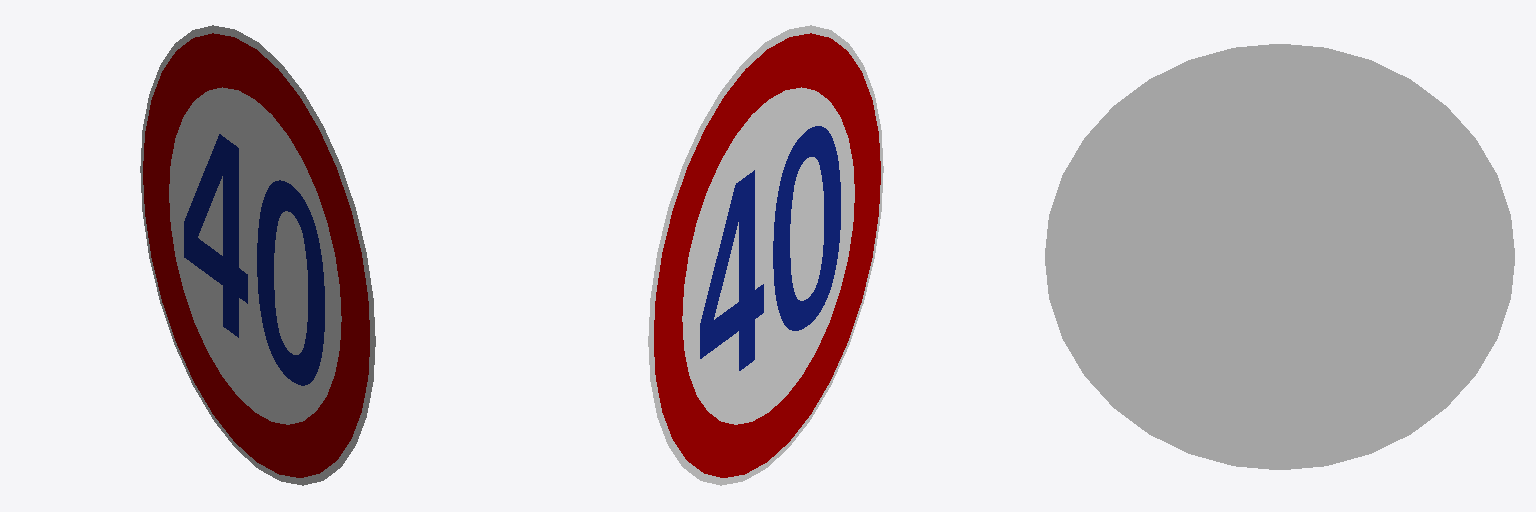
File: 40sign.obj
3 views of the same model, side by side, from view 1: azimuth 30°, elevation 25°; view 2: azimuth 150°, elevation 25°; view 3: azimuth 270°, elevation 25° (orthographic).
Parts seen in each view (by area): view 1: Circle.012, Circle.011, Circle.002_Circle.001, Circle.010, Circle.013; view 2: Circle.012, Circle.011, Circle.002_Circle.001, Circle.010, Circle.013; view 3: Circle.013.
Boxes of the visible parts, <box> form: Circle.012: <box>143,33,369,477</box>; Circle.011: <box>169,87,341,424</box>; Circle.002_Circle.001: <box>257,180,324,385</box>; Circle.010: <box>184,134,247,337</box>; Circle.013: <box>140,25,375,485</box>; Circle.012: <box>654,33,880,477</box>; Circle.011: <box>682,87,854,424</box>; Circle.002_Circle.001: <box>773,126,840,330</box>; Circle.010: <box>700,170,763,370</box>; Circle.013: <box>648,25,883,485</box>; Circle.013: <box>1045,44,1514,469</box>.
Size of the model in its own units: 0.006 by 0.6 by 0.6.